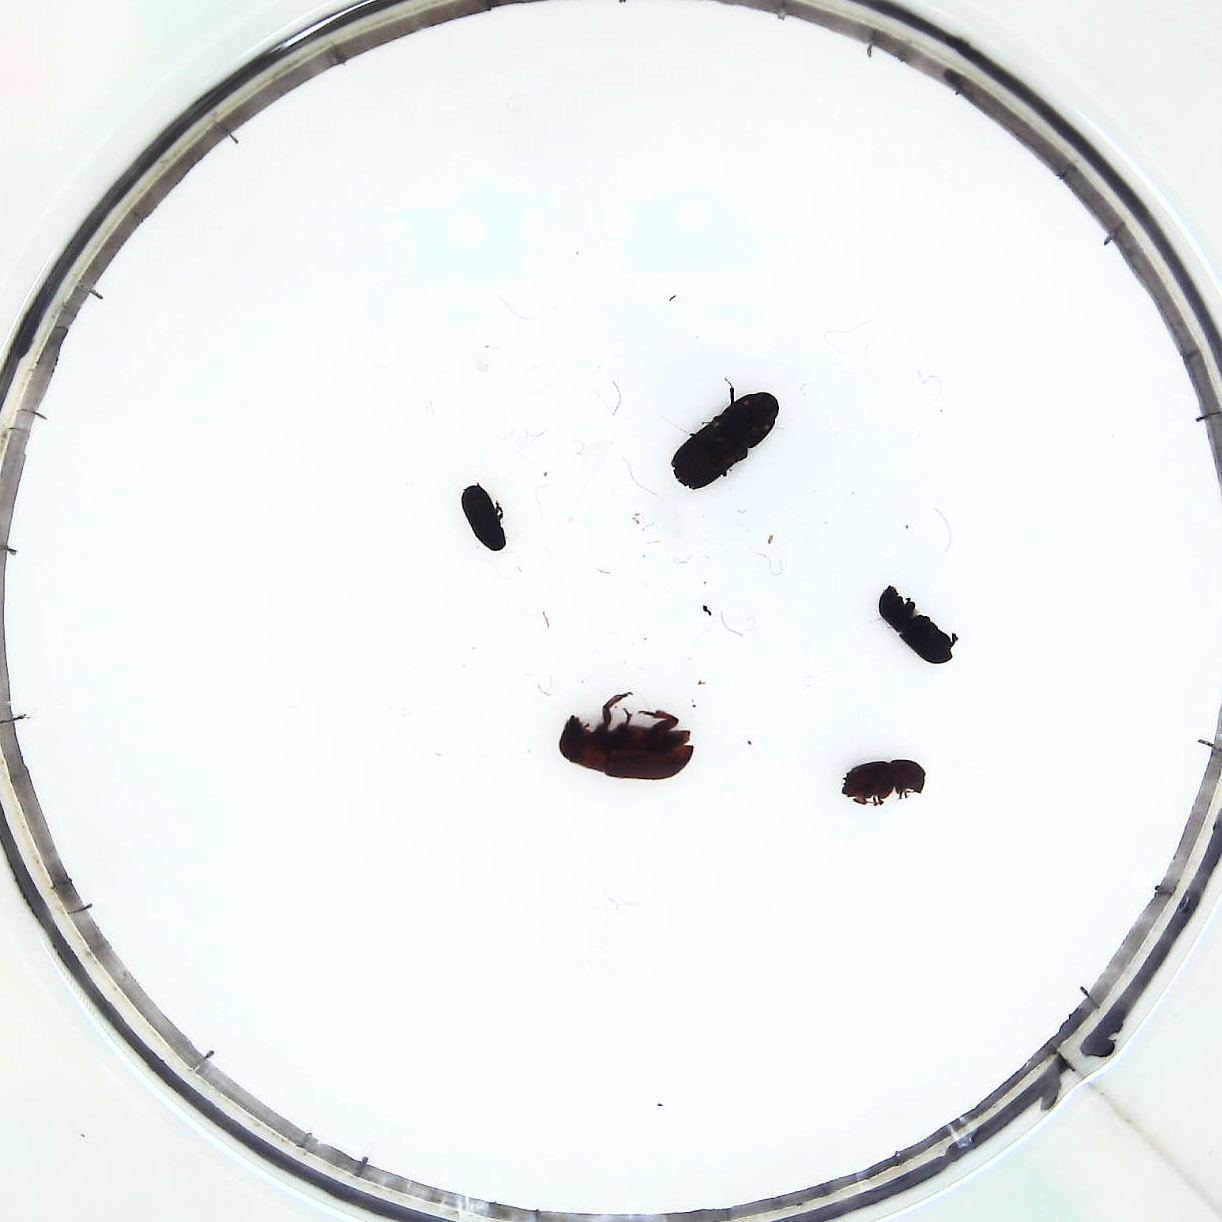Boerner: (677, 386, 781, 495)
Leconte: (560, 696, 699, 783)
Linnaeus: (842, 756, 927, 810)
armandi: (875, 587, 962, 666)
coleoptera: (457, 480, 511, 554)
